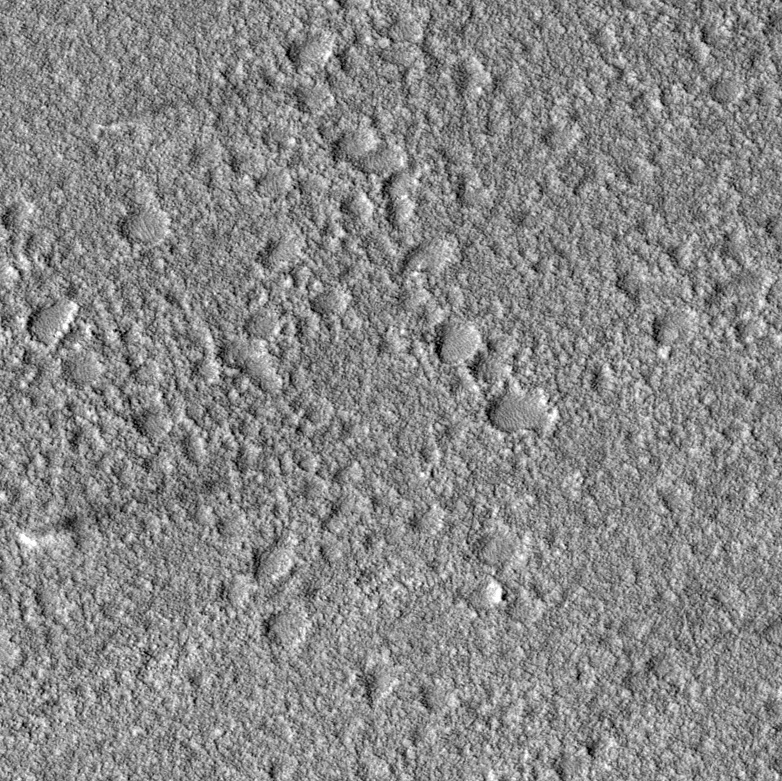dust_devil: (18, 510, 85, 552)
